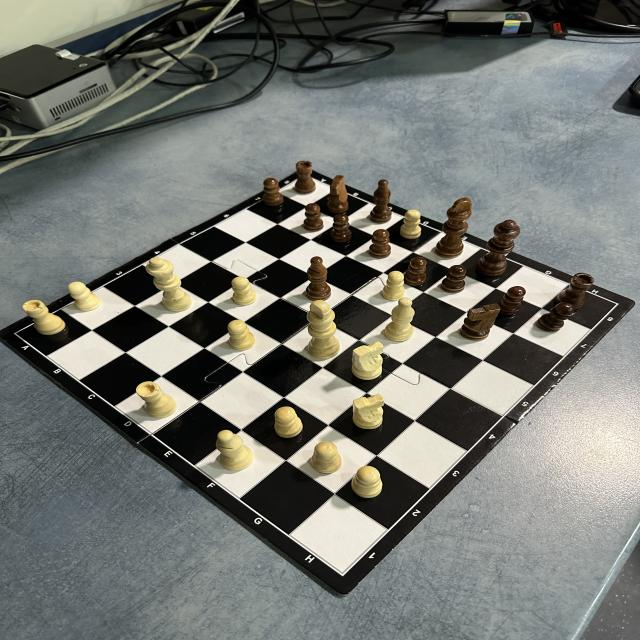Black-Bishop: (306, 256, 332, 302), (369, 179, 392, 223)
Black-King: (434, 198, 472, 258)
Black-Knight: (460, 303, 500, 341), (327, 175, 349, 213)
Black-Pawn: (538, 302, 574, 332), (497, 286, 526, 315), (441, 265, 467, 294), (403, 257, 428, 286), (369, 229, 392, 258), (262, 178, 284, 206), (330, 214, 352, 242), (304, 203, 324, 232)
Black-Queen: (477, 219, 520, 277)
Black-Rook: (556, 273, 594, 310), (295, 160, 316, 194)
White-Bishop: (215, 430, 254, 470), (384, 297, 416, 342)
White-King: (306, 300, 341, 359)
White-Knight: (351, 342, 384, 381), (352, 393, 384, 430)
White-Pawn: (310, 441, 342, 474), (351, 466, 383, 498), (68, 281, 101, 311), (274, 406, 304, 438), (227, 320, 256, 350), (231, 276, 257, 305), (399, 209, 422, 240), (382, 271, 405, 301)
White-Queen: (146, 257, 192, 312)
White-Rook: (22, 300, 67, 336), (136, 381, 177, 418)
